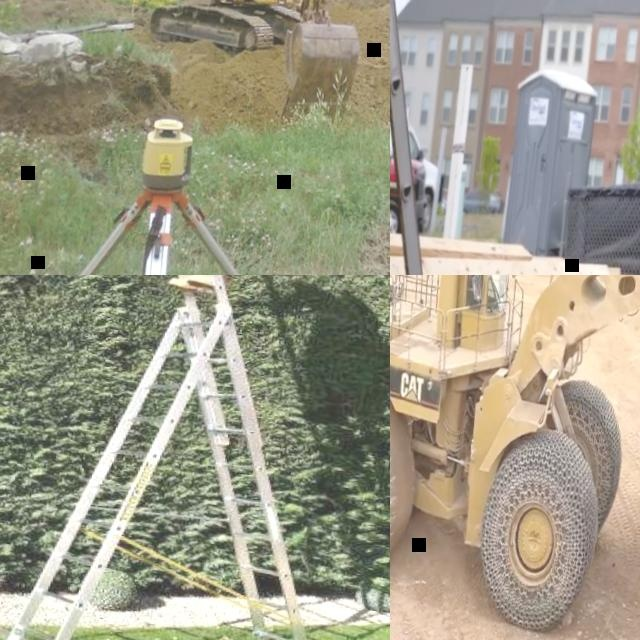machinery: (390, 275, 640, 640), (139, 0, 389, 125)
vehicle: (390, 104, 436, 238), (390, 116, 443, 226)
